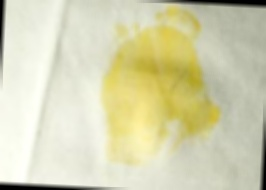mustard: (103, 3, 229, 161)
